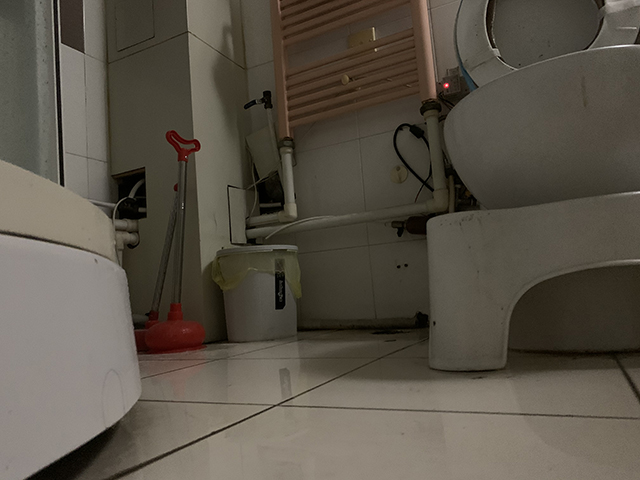closestool: (439, 1, 639, 358)
stool: (425, 190, 640, 374)
trashcan: (211, 244, 305, 341)
